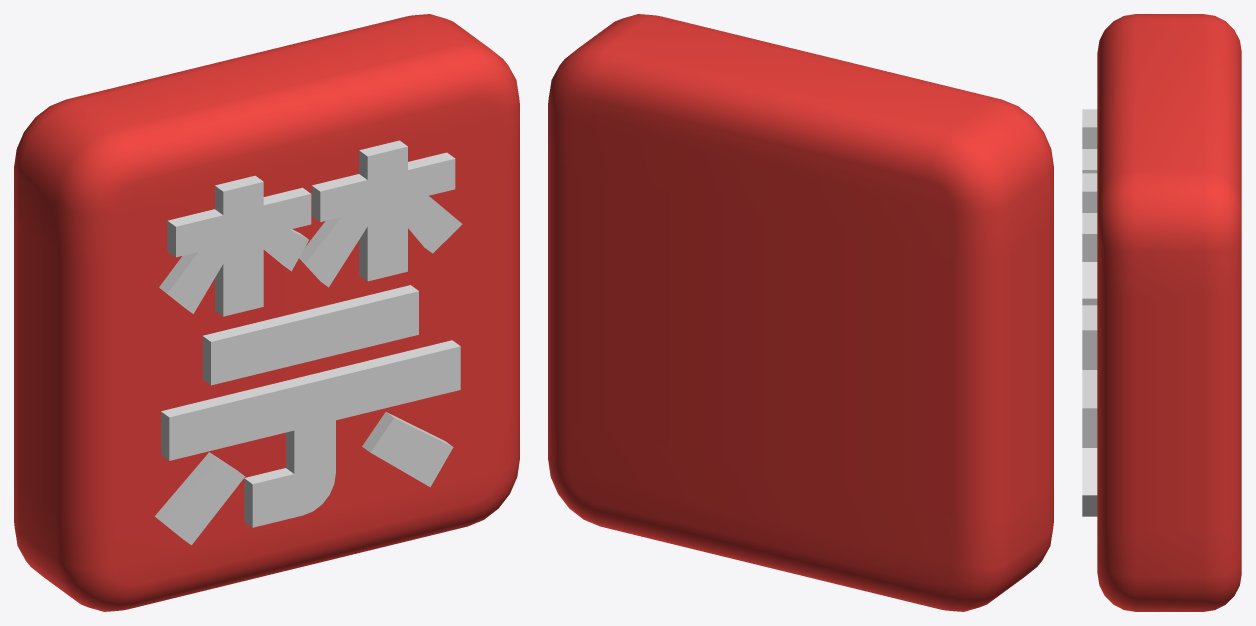
The model's file is japanese_prohibited_button.glb.
The picture shows the model from 3 angles, left to right: view 1: azimuth 30°, elevation 25°; view 2: azimuth 150°, elevation 25°; view 3: azimuth 270°, elevation 25°; orthographic projection. The views are drawn at different scales.
Visible parts, largest first — view 1: Cube.6656, Plane.353; view 2: Cube.6656; view 3: Cube.6656, Plane.353.
Part boxes in pixels (x1=…): Cube.6656: x1=14, y1=14, x2=519, y2=611; Plane.353: x1=154, y1=140, x2=462, y2=544; Cube.6656: x1=548, y1=14, x2=1053, y2=611; Cube.6656: x1=1097, y1=14, x2=1241, y2=611; Plane.353: x1=1082, y1=109, x2=1097, y2=516.
Bounding box in the file's own units: 2.2 × 2.2 × 0.73.
1 material, 1 textured.
